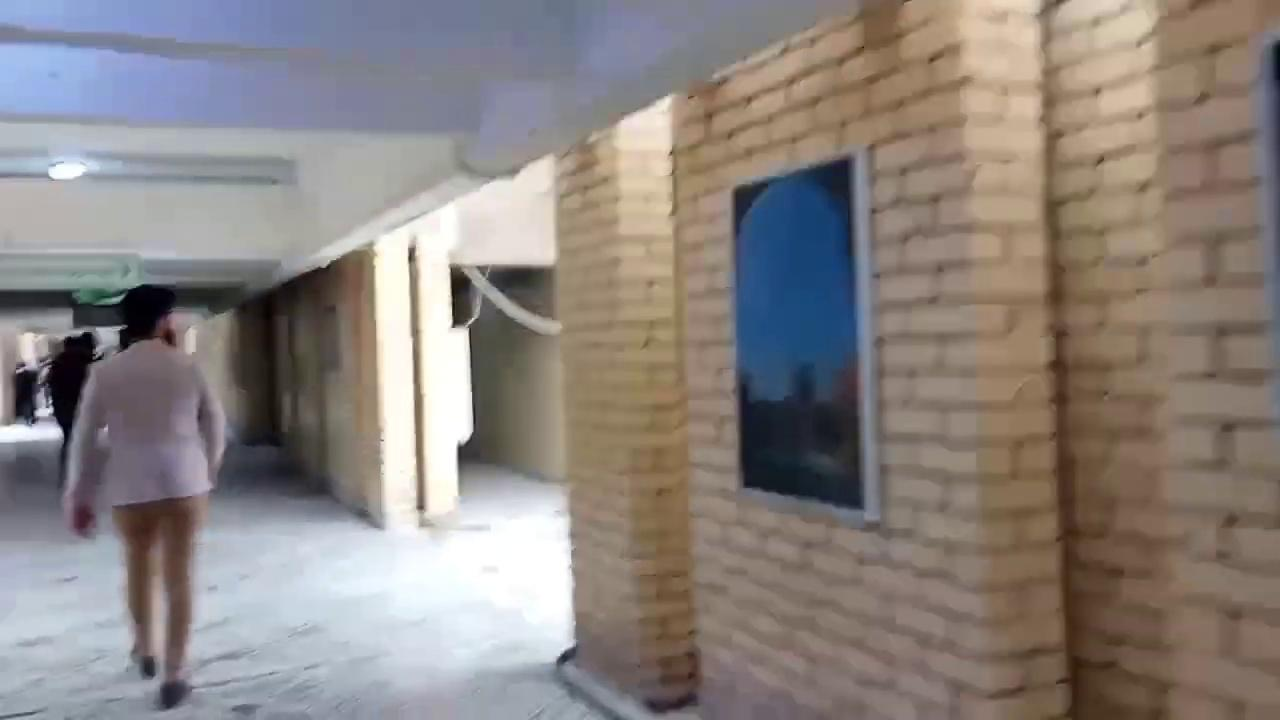car: (2, 325, 125, 488)
person: (61, 283, 227, 709), (45, 332, 100, 489)
